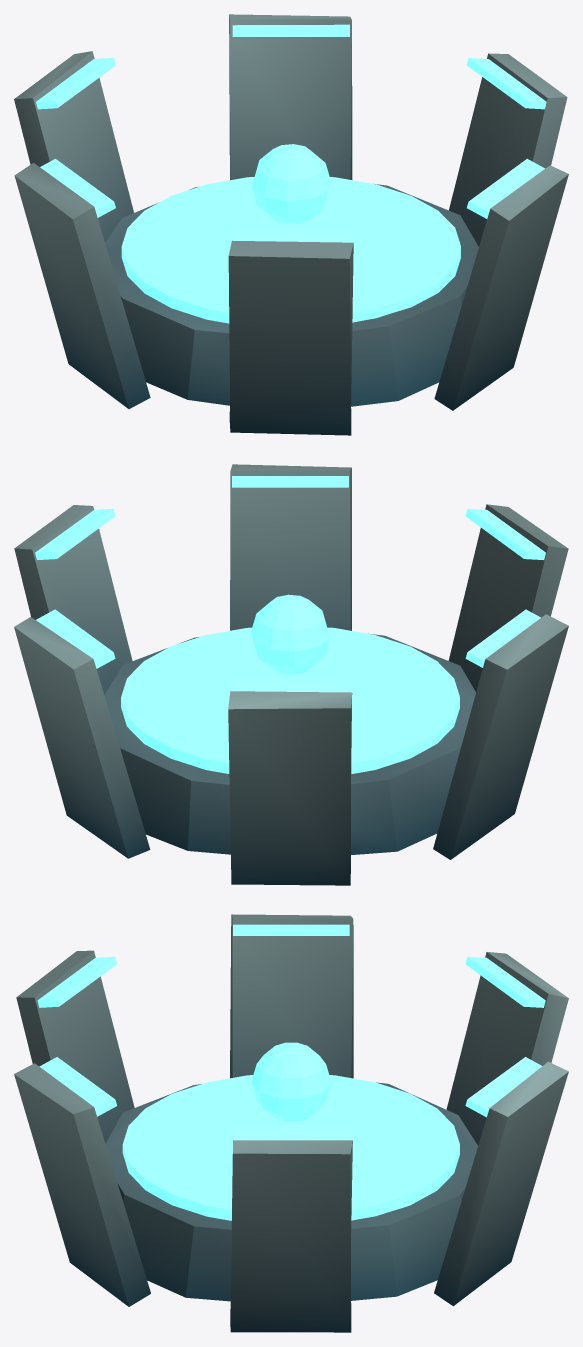
File: ruin_fountain.glb
3 renders of one model, top to bottom at view 1: azimuth 30°, elevation 25°; view 2: azimuth 150°, elevation 25°; view 3: azimuth 270°, elevation 25°, orthographic.
Visible parts, largest first — view 1: ruin_fountain_stone, ruin_fountain_glow; view 2: ruin_fountain_stone, ruin_fountain_glow; view 3: ruin_fountain_stone, ruin_fountain_glow.
Part boxes in pixels (left/top/right/bottom): ruin_fountain_stone: left=14, top=14, right=568, bottom=435; ruin_fountain_glow: left=36, top=24, right=546, bottom=323; ruin_fountain_stone: left=14, top=464, right=568, bottom=885; ruin_fountain_glow: left=35, top=476, right=545, bottom=773; ruin_fountain_stone: left=14, top=914, right=568, bottom=1332; ruin_fountain_glow: left=37, top=924, right=545, bottom=1220.
Size of the model in its own units: 7.08 by 2.91 by 6.92.
